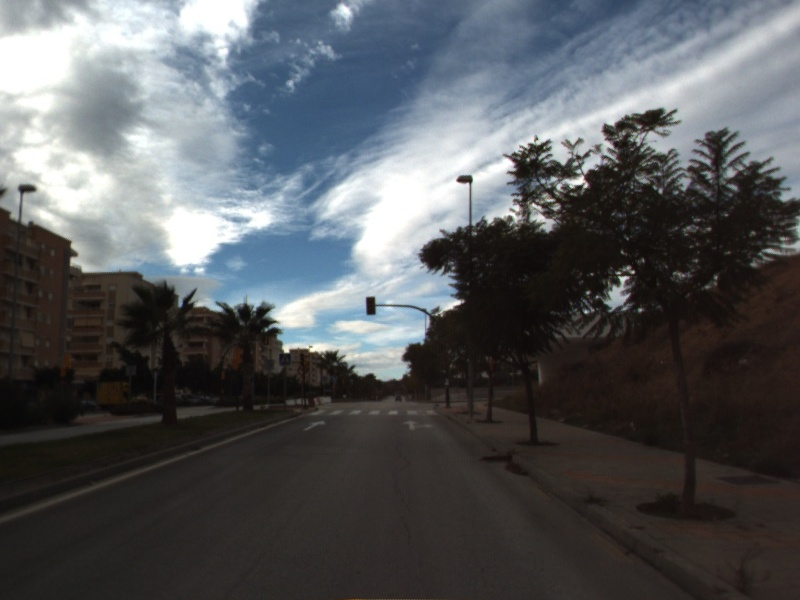STRAIGHT: (300, 418, 328, 433)
STRAIGHT_RIGHT: (400, 418, 436, 433)
